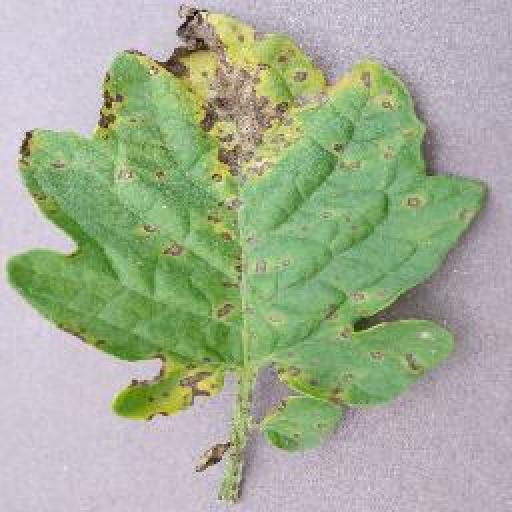disease_tomato: (7, 6, 486, 454)
